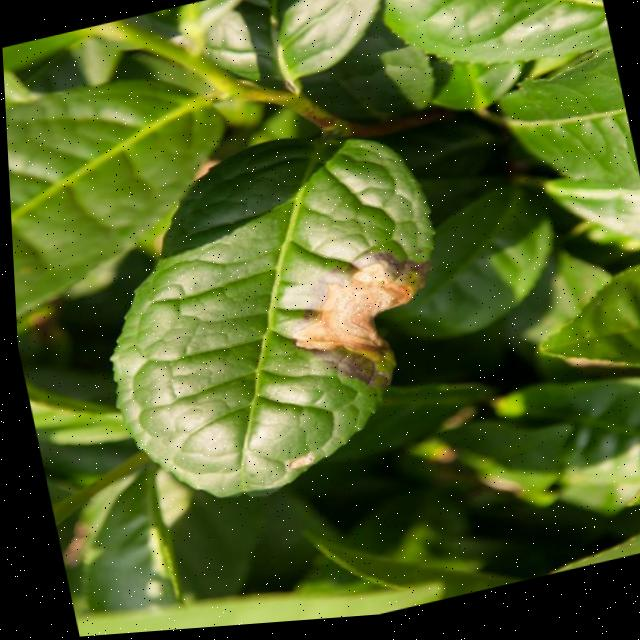Tea cloud leaf blight: (277, 243, 449, 390)
